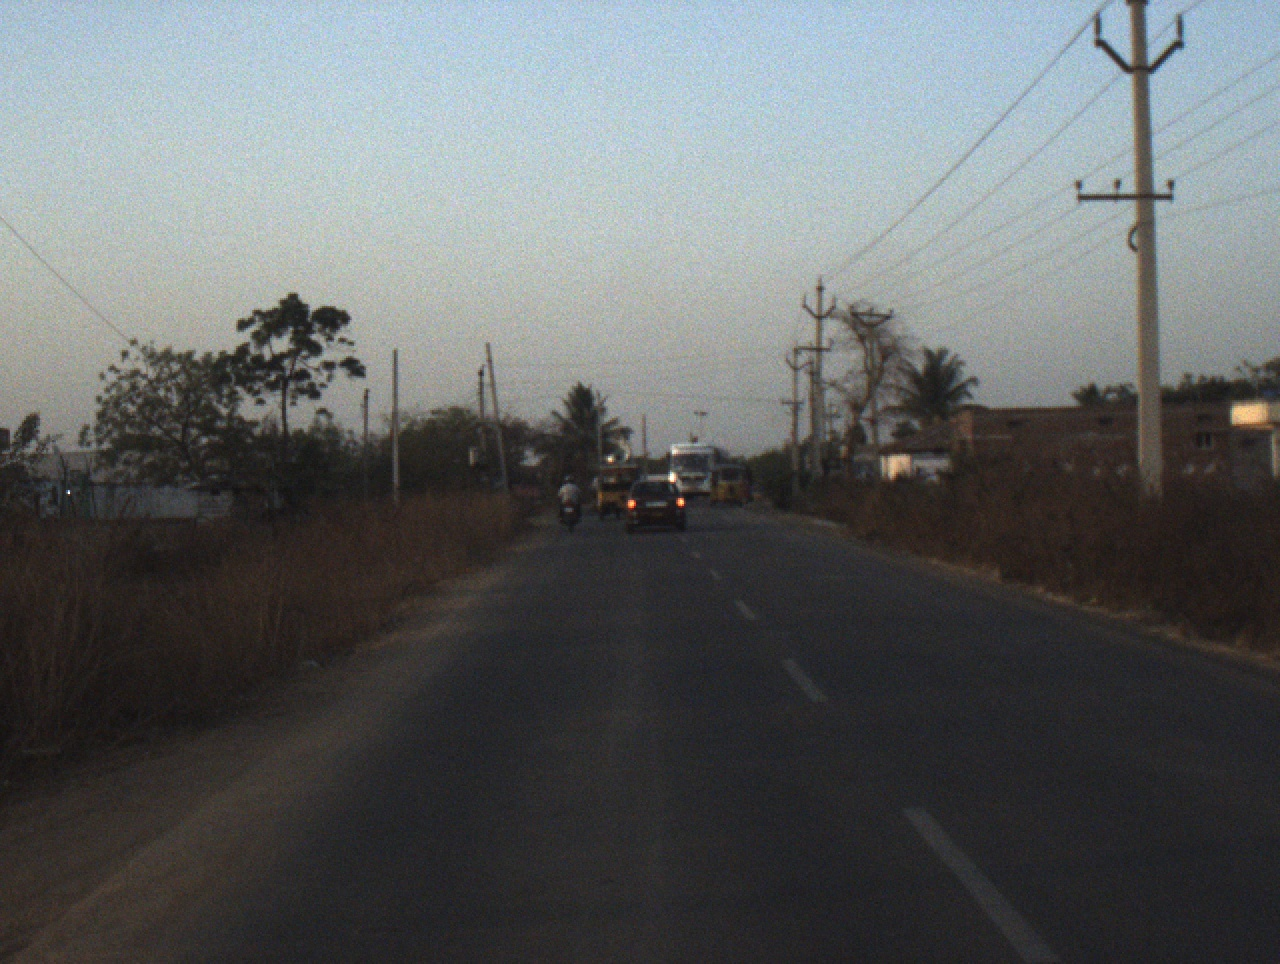autorickshaw: (714, 461, 755, 508)
bus: (667, 436, 725, 501)
car: (623, 472, 688, 533), (594, 452, 640, 519)
motorcycle: (558, 493, 583, 536)
rider: (557, 473, 586, 521)
truck: (511, 462, 549, 520)
